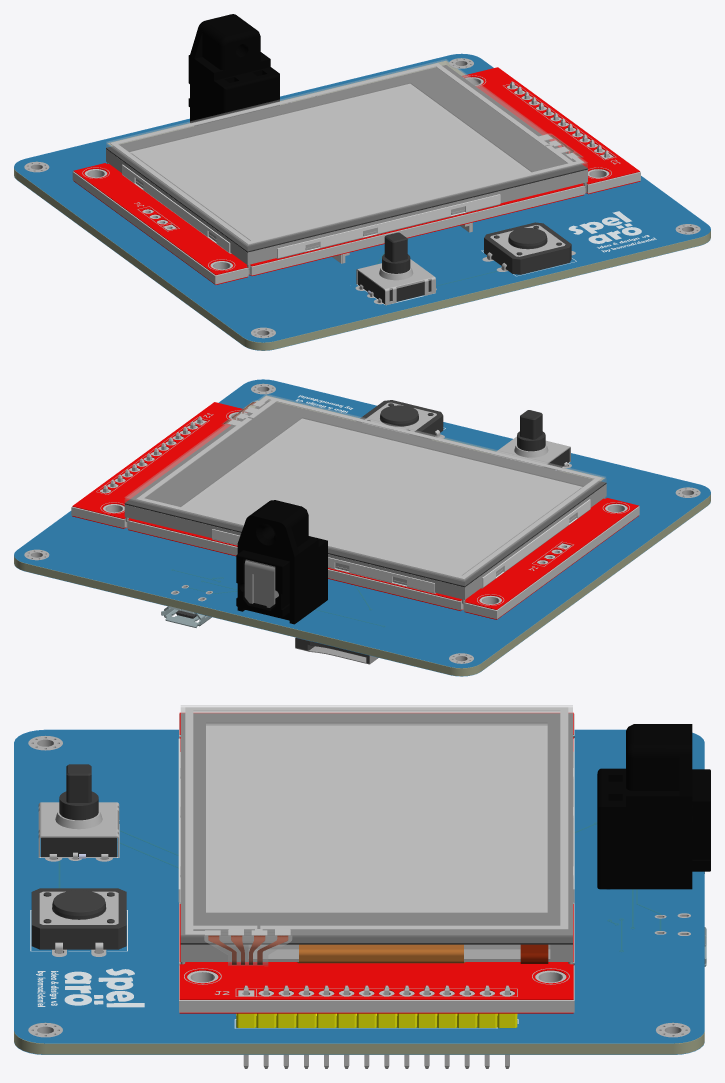
The model's file is spelaro.glb.
3 renders of one model, top to bottom at view 1: azimuth 30°, elevation 25°; view 2: azimuth 150°, elevation 25°; view 3: azimuth 270°, elevation 25°, orthographic. The views are drawn at different scales.
Parts seen in each view (by area): view 1: touch_protect, screen_glass, =>[0:1:1:404], =>[0:1:1:402], tft_matrix, screen_film, mask_upper, =>[0:1:1:3], plate and holes, touch_routs, frame, metal bandage (+8 smaller); view 2: touch_protect, screen_glass, =>[0:1:1:404], =>[0:1:1:402], tft_matrix, screen_film, mask_upper, =>[0:1:1:3], plate and holes, touch_routs, frame, metal bandage (+9 smaller); view 3: touch_protect, screen_glass, =>[0:1:1:404], =>[0:1:1:402], tft_matrix, screen_film, =>[0:1:1:3], mask_upper, touch_routs, plate and holes, =>[0:1:1:384], =>[0:1:1:5] (+13 smaller).
Boxes of the visible parts, box(x1,y1,x2,y2) form: touch_protect: box(106, 59, 587, 245); screen_glass: box(106, 61, 587, 250); =>[0:1:1:404]: box(14, 54, 710, 350); =>[0:1:1:402]: box(14, 53, 710, 342); tft_matrix: box(132, 85, 527, 240); screen_film: box(106, 65, 587, 252); mask_upper: box(73, 67, 639, 275); =>[0:1:1:3]: box(188, 14, 279, 125); plate and holes: box(72, 78, 640, 284); touch_routs: box(110, 63, 583, 244); frame: box(106, 149, 587, 269); metal bandage: box(122, 164, 500, 258); touch_protect: box(124, 394, 605, 580); screen_glass: box(125, 396, 606, 585); =>[0:1:1:404]: box(14, 380, 710, 676); =>[0:1:1:402]: box(14, 379, 710, 668); tft_matrix: box(185, 420, 580, 575); screen_film: box(124, 400, 606, 587); mask_upper: box(72, 402, 638, 609); =>[0:1:1:3]: box(236, 500, 327, 624); plate and holes: box(71, 414, 639, 619); touch_routs: box(136, 396, 601, 579); frame: box(124, 484, 606, 604); metal bandage: box(212, 499, 590, 593); touch_protect: box(181, 705, 572, 935); screen_glass: box(181, 707, 572, 942); =>[0:1:1:404]: box(14, 730, 704, 1054); =>[0:1:1:402]: box(14, 729, 704, 1043); tft_matrix: box(209, 726, 544, 912); screen_film: box(180, 713, 572, 944); =>[0:1:1:3]: box(597, 724, 710, 889); mask_upper: box(179, 712, 573, 999); touch_routs: box(185, 707, 568, 935); plate and holes: box(179, 713, 574, 1012); =>[0:1:1:384]: box(31, 888, 126, 953); =>[0:1:1:5]: box(38, 764, 119, 859).
Size of the model in its own units: 0.0938 by 0.0252 by 0.0881.
